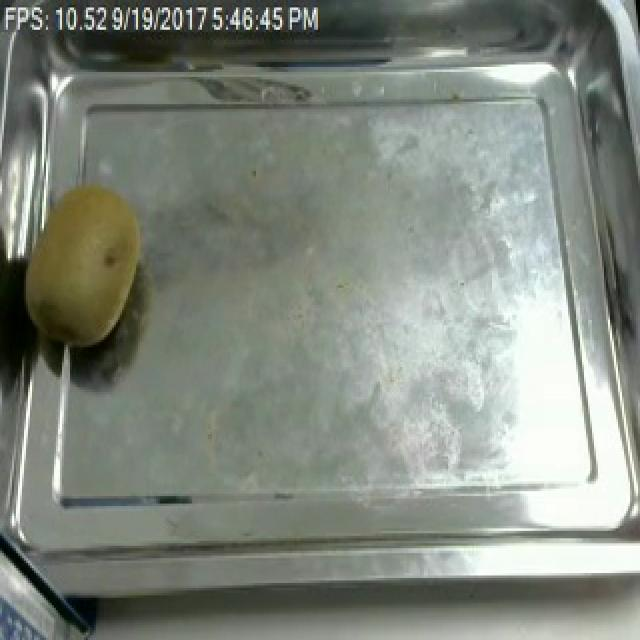Fruit: (14, 171, 156, 355)
